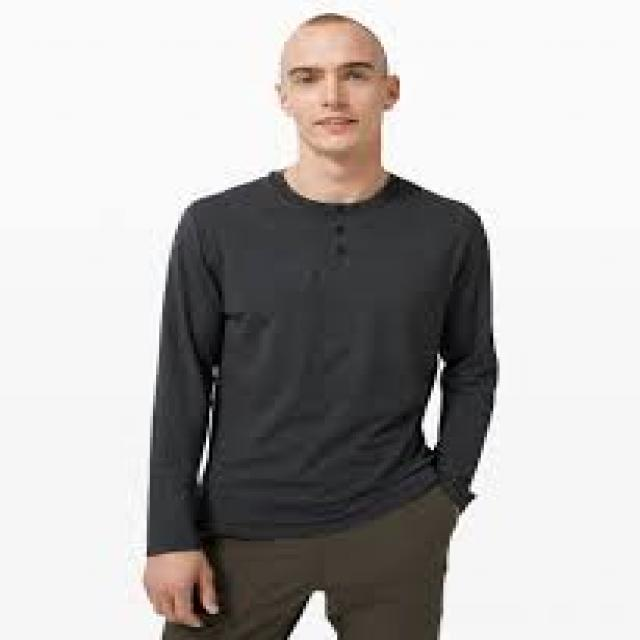plain: (145, 171, 498, 524)
